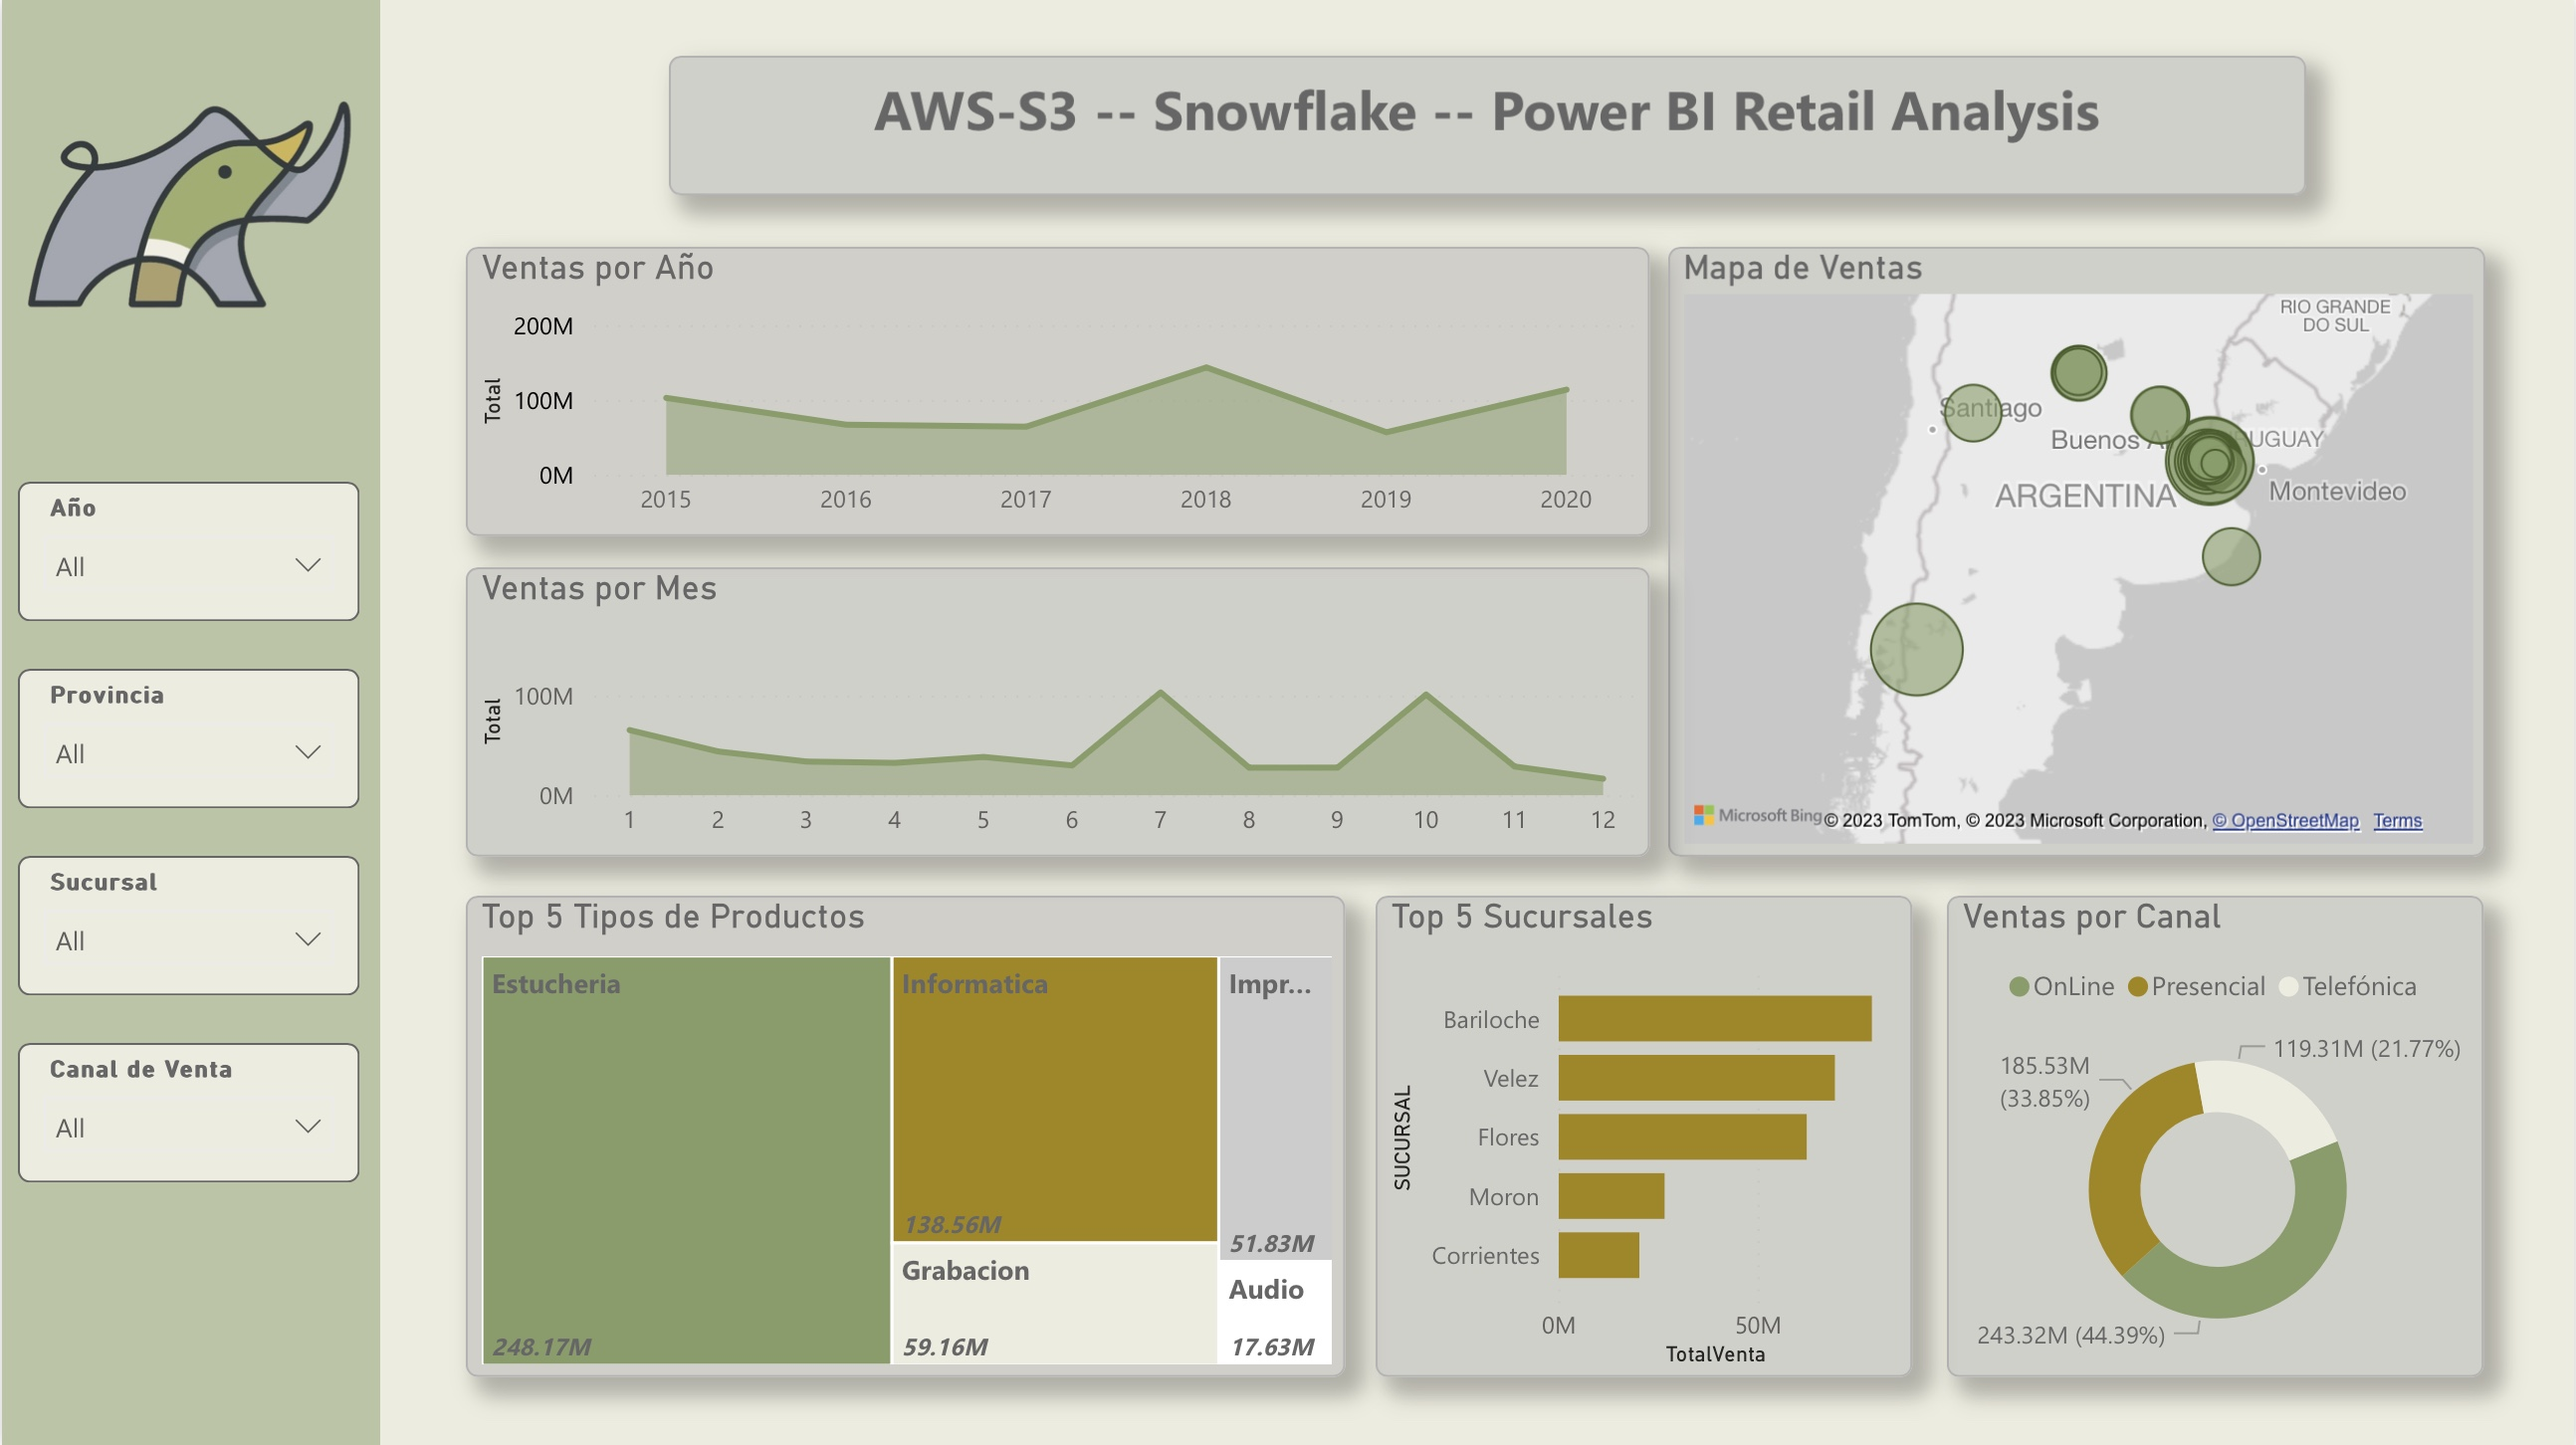

This screenshot's page, from the dashboard's own definition file:
{"tool":"powerbi","page":{"name":"Ventas","canvas":[1280,720],"ordinal":0},"visuals":[{"type":"shape","box":[0,0,188.7,719.8],"z":0},{"type":"areaChart","title":"Ventas por Año","fields":{"Category":["TABLACALENDARIO.ANIO"],"Y":["_Medidas.TotalVenta"]},"box":[230.5,122.6,589.4,144],"z":2000},{"type":"map","title":"Mapa de Ventas","fields":{"Size":["_Medidas.TotalVenta"],"Y":["SUCURSAL.LATITUD"],"X":["SUCURSAL.LONGITUD"]},"box":[828.7,122.6,406.6,303.5],"z":3000},{"type":"treemap","title":"Top 5 Tipos de Productos","fields":{"Group":["TIPO_PRODUCTO.TIPOPRODUCTO"],"Values":["_Medidas.TotalVenta"]},"box":[230.5,445.5,437.7,239.3],"z":4000},{"type":"donutChart","title":"Ventas por Canal","fields":{"Category":["CANAL_VENTA.CANAL"],"Y":["_Medidas.TotalVenta"]},"box":[967.8,445.5,267.5,239.3],"z":5000},{"type":"clusteredBarChart","title":"Top 5 Sucursales","fields":{"Category":["SUCURSAL.SUCURSAL"],"Y":["_Medidas.TotalVenta"]},"box":[683.8,445.5,267.5,239.3],"z":6000},{"type":"areaChart","title":"Ventas por Mes","fields":{"Y":["_Medidas.TotalVenta"],"Category":["TABLACALENDARIO.MES"]},"box":[230.5,282.1,589.4,144],"z":7000},{"type":"image","box":[0,0,188.7,194.5],"z":7004},{"type":"slicer","fields":{"Values":["TABLACALENDARIO.ANIO"]},"box":[7.9,239.4,170.1,69.3],"z":7005},{"type":"textbox","box":[331.5,28.1,814.7,69.3],"z":7008},{"type":"slicer","fields":{"Values":["PROVINCIA.PROVINCIA"]},"box":[7.9,332.7,170.1,69.3],"z":7009},{"type":"slicer","fields":{"Values":["SUCURSAL.SUCURSAL"]},"box":[7.9,425.9,170.1,69.3],"z":7010},{"type":"slicer","fields":{"Values":["CANAL_VENTA.CANAL"]},"box":[7.9,519.2,170.1,69.3],"z":7011}]}

Visuals, with their boxes in screenshot pixels (x1, y1, x2, y2), scaled from the page's 1280x720 canvas onto the 2576x1445 screenshot:
shape: left=0, top=0, right=380, bottom=1444
"Ventas por Año" areaChart: left=464, top=246, right=1650, bottom=535
"Mapa de Ventas" map: left=1668, top=246, right=2486, bottom=855
"Top 5 Tipos de Productos" treemap: left=464, top=894, right=1345, bottom=1374
"Ventas por Canal" donutChart: left=1948, top=894, right=2486, bottom=1374
"Top 5 Sucursales" clusteredBarChart: left=1377, top=894, right=1914, bottom=1374
"Ventas por Mes" areaChart: left=464, top=566, right=1650, bottom=855
image: left=0, top=0, right=380, bottom=390
slicer - TABLACALENDARIO.ANIO: left=16, top=481, right=358, bottom=620
textbox: left=667, top=57, right=2306, bottom=195
slicer - PROVINCIA.PROVINCIA: left=16, top=668, right=358, bottom=807
slicer - SUCURSAL.SUCURSAL: left=16, top=855, right=358, bottom=994
slicer - CANAL_VENTA.CANAL: left=16, top=1042, right=358, bottom=1181
